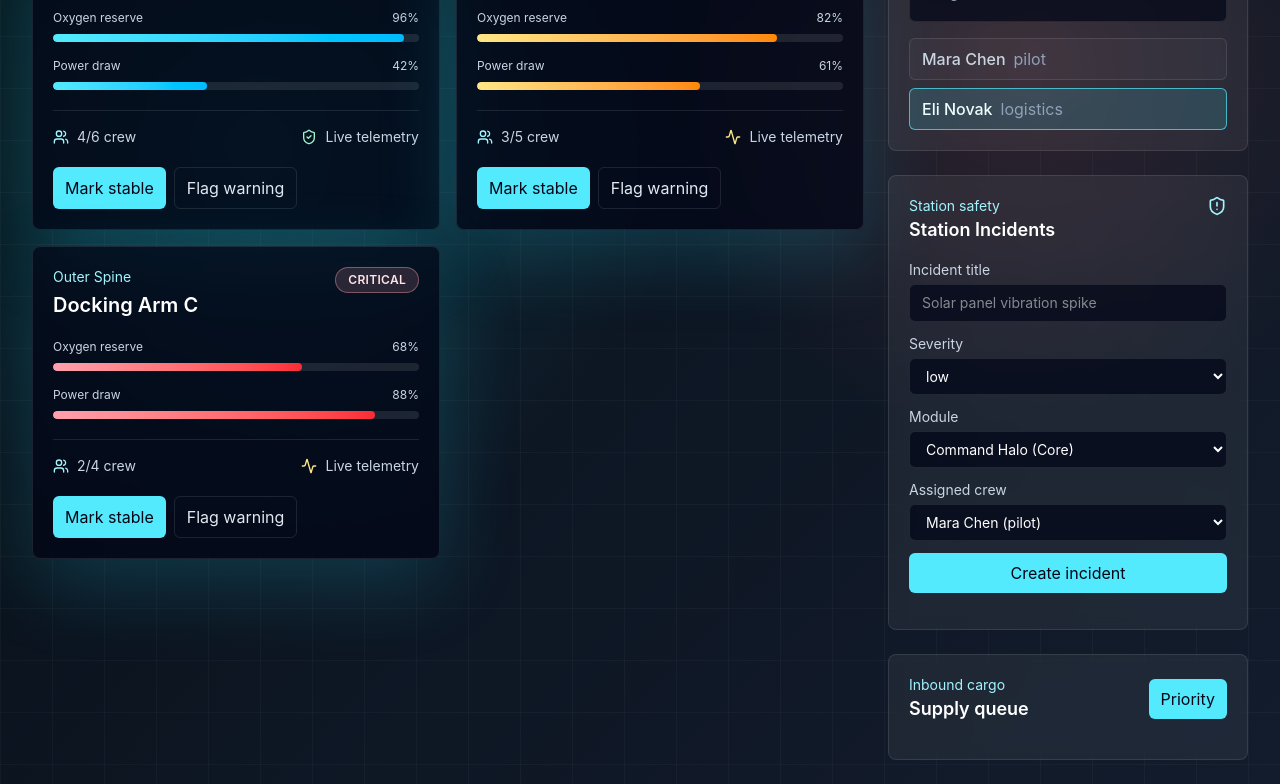
Test: App module telemetry › module status button updates visible status after API success
(page scrolled)
Expected: the text "Docking Arm C" is shown, [53,293,198,317]
What coordinates should you click on to do the following:
click the button "Mark stable" below "88"
I would click on:
 (109, 517)
Its box is [53,496,166,538].
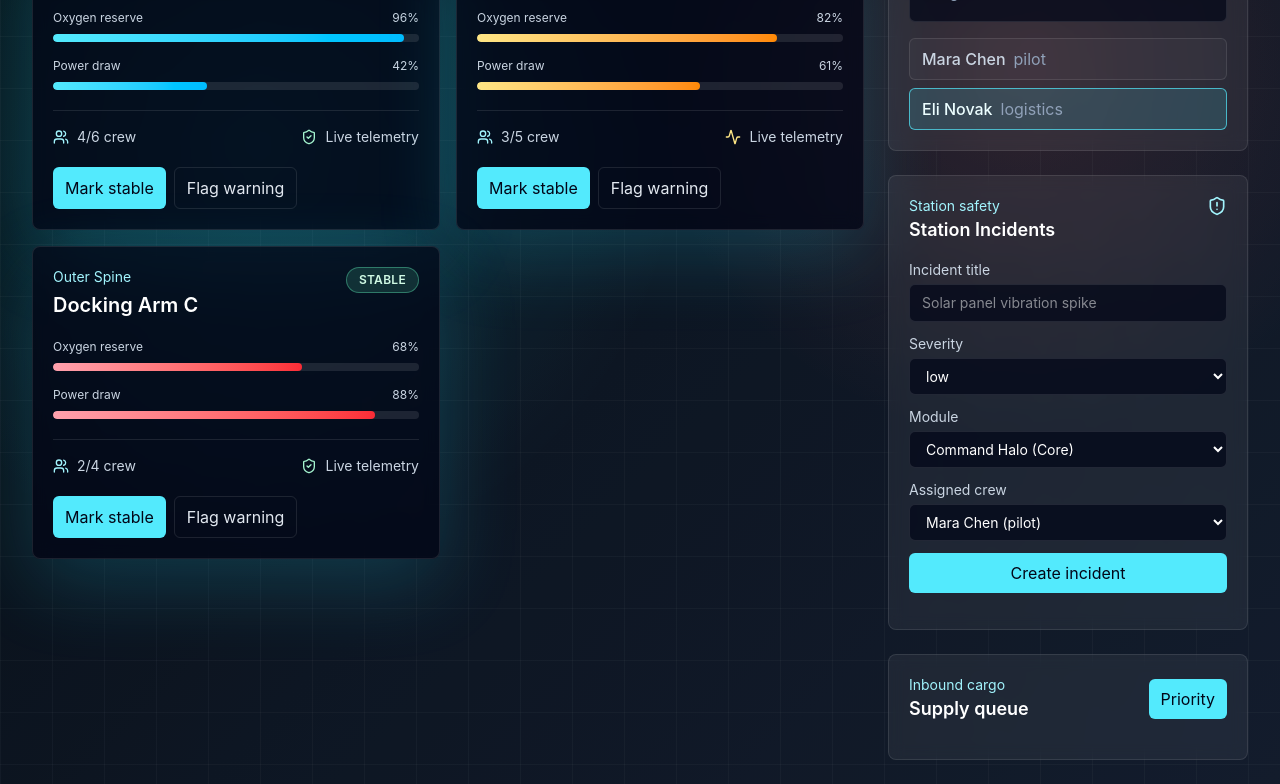
Expected: the text "Docking Arm C" is shown, [53,293,198,317]
Now the text "stable" is shown, box [346,267,419,293]
